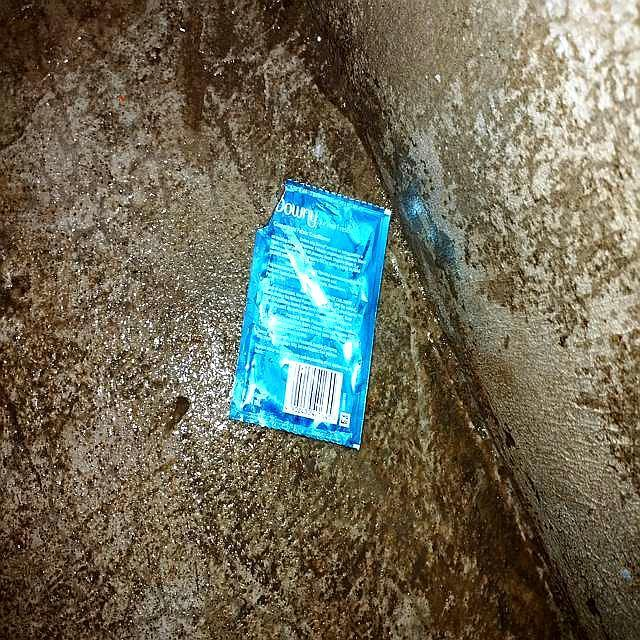Non-biodegradable: (227, 177, 393, 453)
